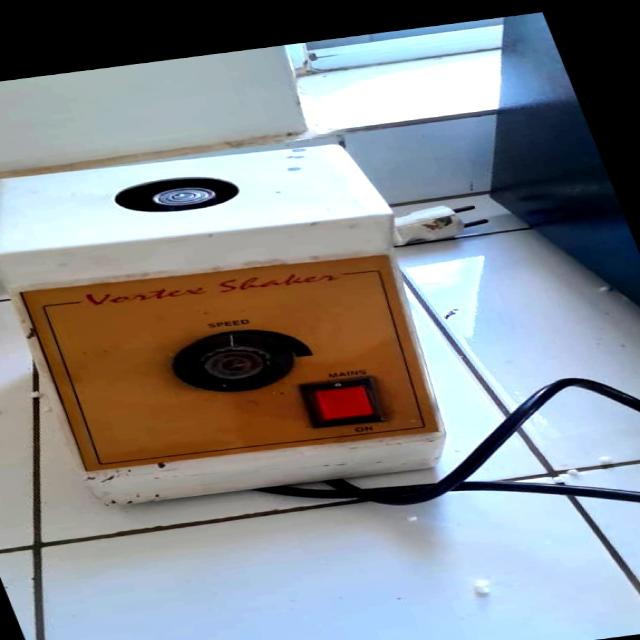Vortex: (0, 128, 503, 531)
